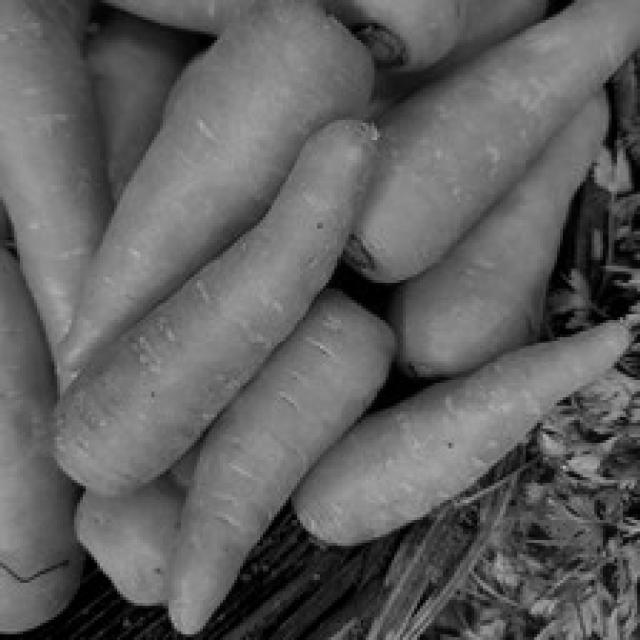Fresh_Carrot: (71, 16, 396, 364), (55, 127, 370, 486), (339, 21, 639, 275), (286, 334, 639, 536), (164, 325, 373, 623), (5, 0, 104, 375)
